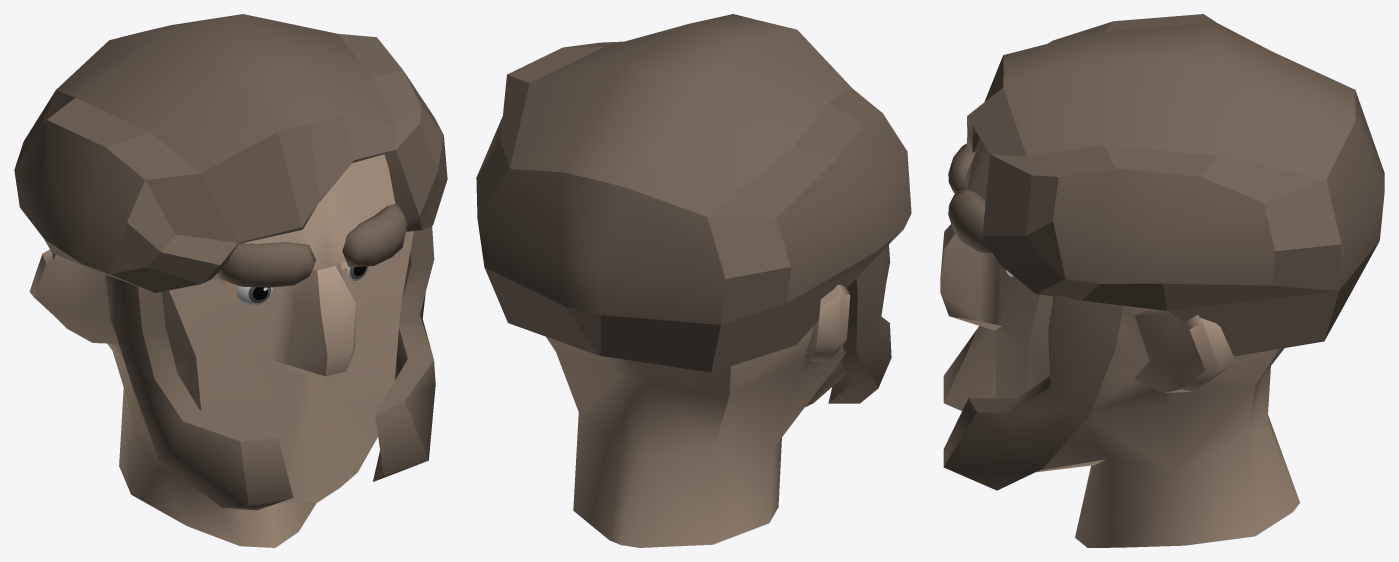
Rendered from Cliente4_head.fbx.
3 views of the same model, side by side, from view 1: azimuth 30°, elevation 25°; view 2: azimuth 150°, elevation 25°; view 3: azimuth 270°, elevation 25° (orthographic). The views are drawn at different scales.
Visible parts, largest first — view 1: pelo3, head, patillas, cejas, ojos; view 2: pelo3, head, patillas; view 3: pelo3, head, patillas, cejas.
Part boxes in pixels (x1,y1,x2,y2): pelo3: (14, 14, 447, 292); head: (29, 154, 413, 547); patillas: (105, 226, 435, 510); cejas: (217, 204, 407, 287); ojos: (236, 266, 369, 305); pelo3: (476, 14, 911, 372); head: (546, 285, 850, 547); patillas: (828, 245, 891, 403); pelo3: (967, 14, 1384, 356); head: (940, 139, 1299, 547); patillas: (943, 295, 1123, 490); cejas: (948, 143, 993, 255).
Size of the model in its own units: 0.3125 by 0.3815 by 0.3123.
